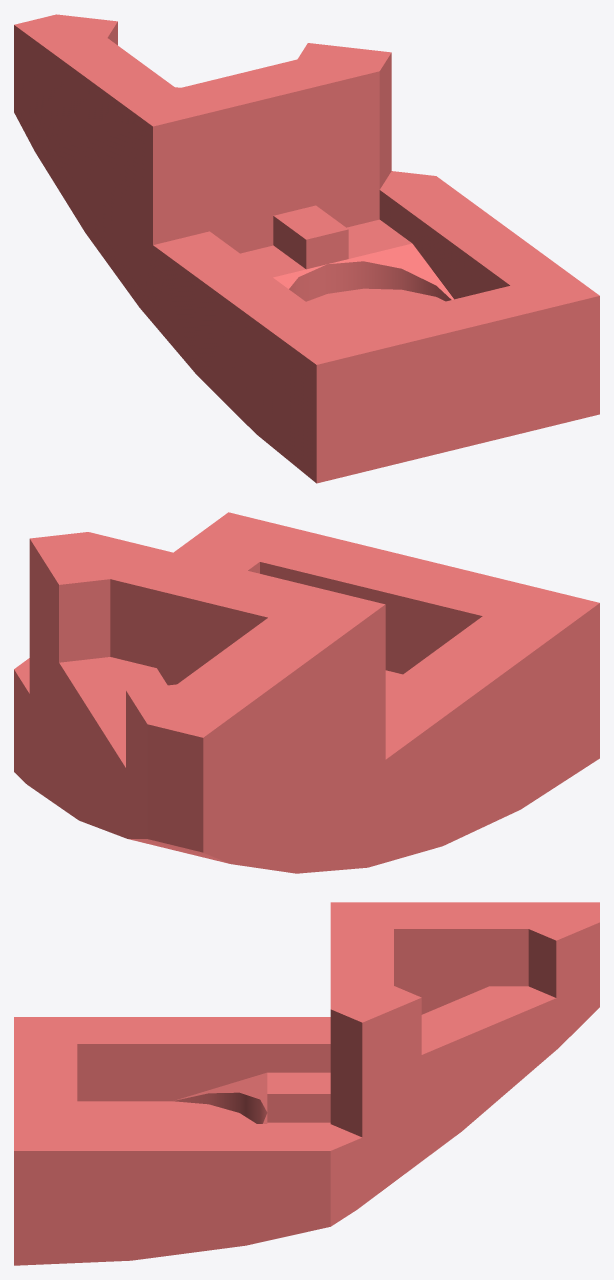
The picture shows the model from 3 angles, top to bottom: view 1: azimuth 30°, elevation 25°; view 2: azimuth 150°, elevation 25°; view 3: azimuth 270°, elevation 25°; orthographic projection. The views are drawn at different scales.
Parts seen in each view (by area): view 1: LDrawPart; view 2: LDrawPart; view 3: LDrawPart.
Boxes of the visible parts, <box> form: LDrawPart: <box>14,14,599,483</box>; LDrawPart: <box>14,512,599,873</box>; LDrawPart: <box>14,902,599,1265</box>.
Size of the model in its own units: 0.14 by 0.112 by 0.259.
